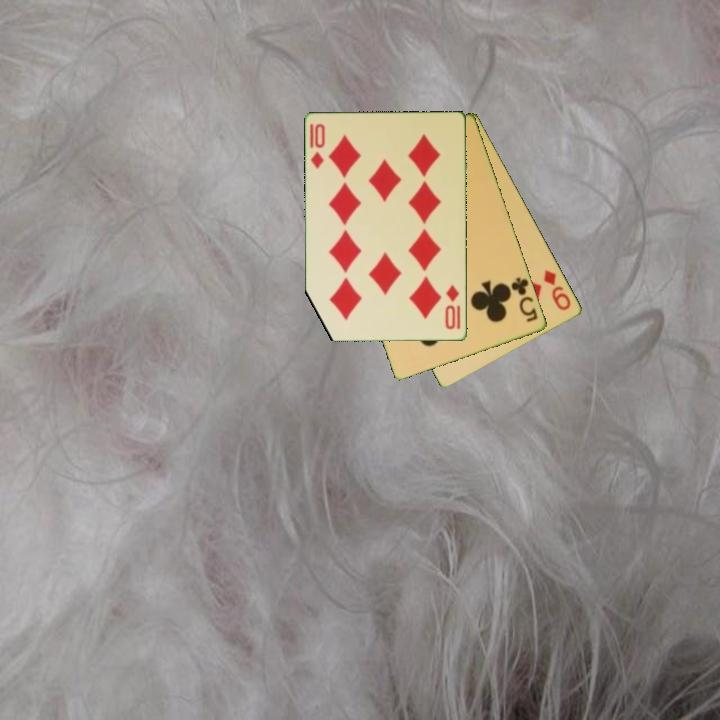10d: (307, 120, 328, 172), (442, 282, 462, 332)
5c: (508, 274, 541, 325)
9d: (540, 266, 574, 314)
